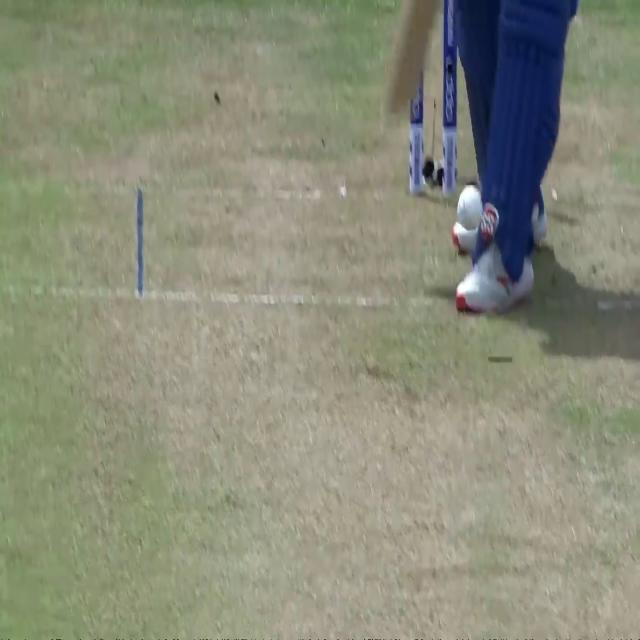ball: (458, 183, 484, 231)
